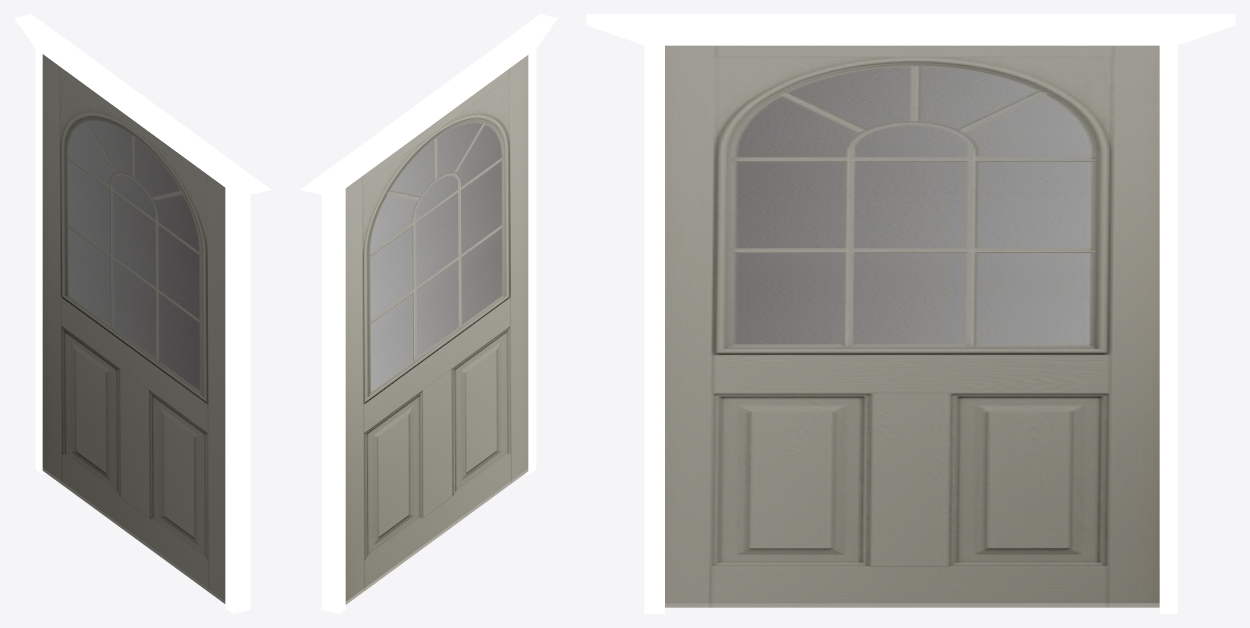
The model's file is ALiteDoor71.45520d3c.gltf.
3 renders of one model, left to right at view 1: azimuth 30°, elevation 25°; view 2: azimuth 150°, elevation 25°; view 3: azimuth 270°, elevation 25°, orthographic. The views are drawn at different scales.
Visible parts, largest first — view 1: Plane, Plane.001; view 2: Plane, Plane.001; view 3: Plane, Plane.001.
Boxes of the visible parts, <box> form: Plane: <box>42,54,225,603</box>; Plane.001: <box>14,14,271,613</box>; Plane: <box>345,55,528,604</box>; Plane.001: <box>300,14,557,613</box>; Plane: <box>665,45,1159,607</box>; Plane.001: <box>586,14,1235,613</box>.
Size of the model in its own units: 0.25 by 6 by 6.
2 materials, 1 textured.
